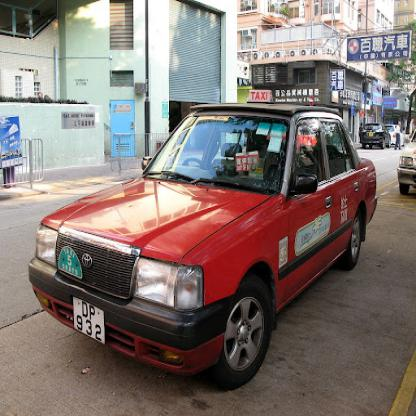taxi: (29, 88, 381, 395)
